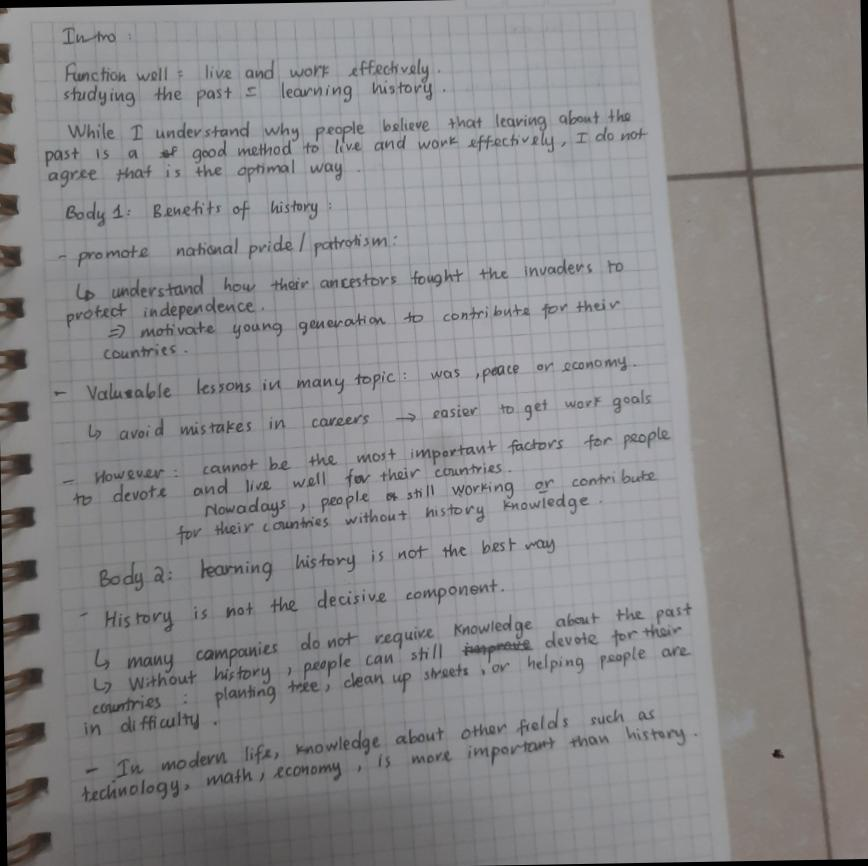text: (77, 721, 688, 806), (88, 598, 696, 678), (89, 641, 694, 718), (89, 619, 686, 696), (84, 703, 659, 781), (59, 424, 673, 489), (84, 387, 654, 444), (50, 352, 639, 406), (95, 533, 560, 596), (71, 254, 626, 305), (44, 124, 648, 170), (101, 574, 506, 638), (107, 294, 624, 344), (201, 466, 656, 521), (176, 490, 590, 547), (70, 458, 514, 510), (64, 106, 634, 146), (63, 51, 432, 90), (56, 228, 389, 271), (60, 76, 435, 111), (43, 157, 347, 192), (62, 194, 322, 232), (62, 292, 258, 331), (81, 708, 205, 740), (102, 341, 178, 362), (59, 24, 118, 46)
